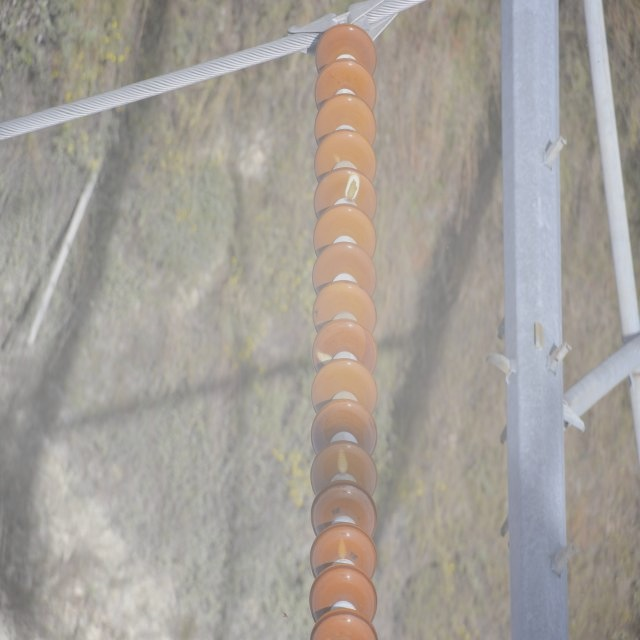insulator: (311, 23, 378, 640)
